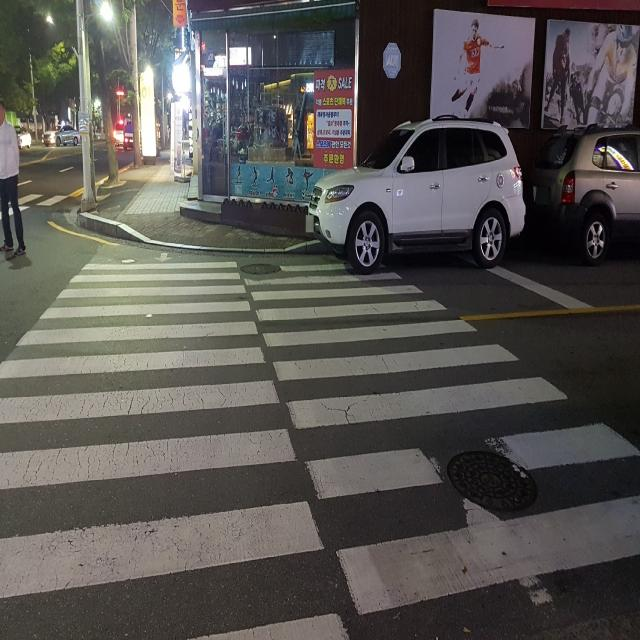횡단보도: (0, 247, 640, 640), (26, 193, 64, 205)
